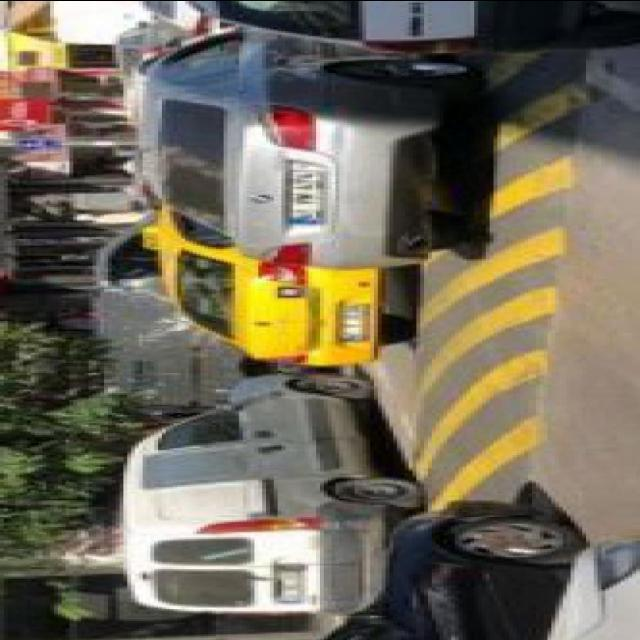Speed_Breaker: (400, 40, 595, 509), (406, 45, 599, 507)
